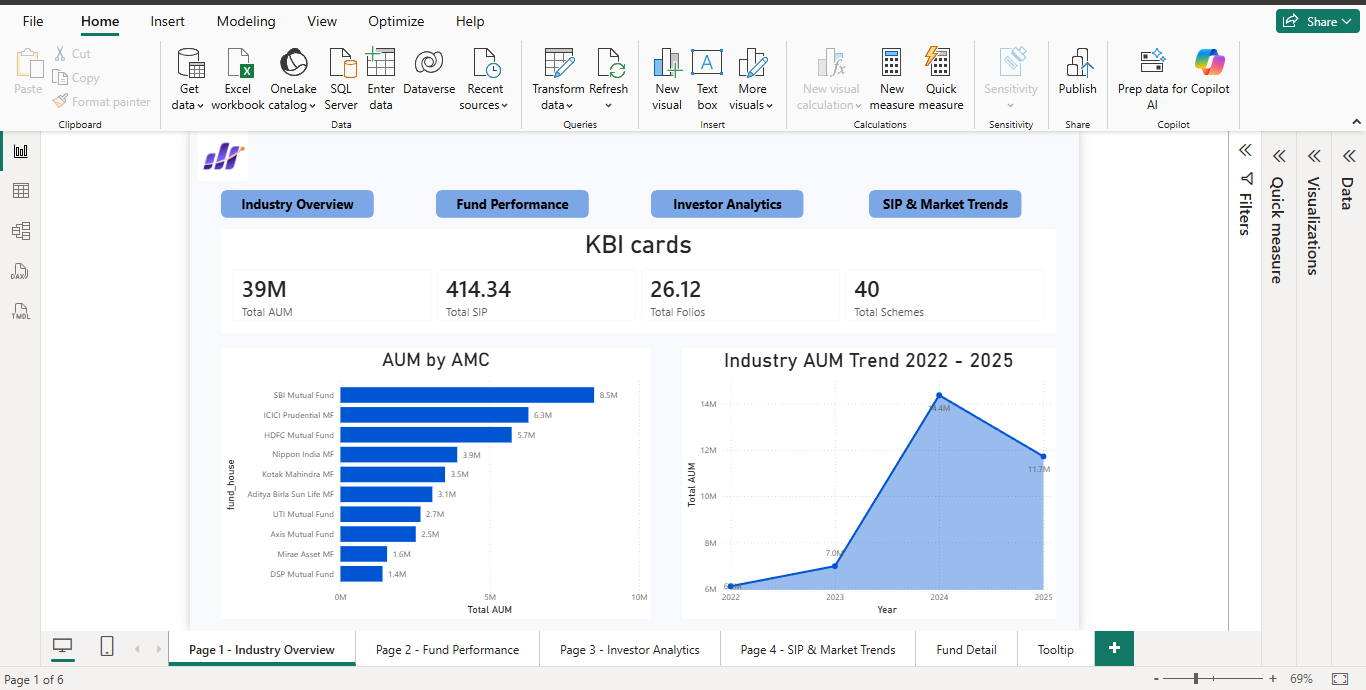

Layout of this report page (visuals, bound fields, positions):
{"tool":"powerbi","page":{"name":"Page 1 - Industry Overview","canvas":[1280,720],"ordinal":0},"visuals":[{"type":"cardVisual","title":"KBI cards","fields":{"Data":["Measures .Total AUM","Measures .Total SIP","Measures .Total Folios","Measures .Total Schemes"]},"box":[44.6,141.1,1202.4,149.8],"z":0},{"type":"lineChart","title":"Industry AUM Trend 2022 - 2025","fields":{"Y":["Measures .Total AUM"],"Category":["03_aum_by_fund_house.Year"]},"box":[708.5,312.5,538.6,390.2],"z":1000},{"type":"clusteredBarChart","title":"AUM by AMC","fields":{"Category":["03_aum_by_fund_house.fund_house"],"Y":["Measures .Total AUM"]},"box":[44.6,312.5,619.2,390.2],"z":2000},{"type":"image","box":[11.5,0,72,72],"z":3000},{"type":"actionButton","title":"Industry Overview","box":[44.6,85,220.3,40.3],"z":4000},{"type":"actionButton","box":[354.2,85,220.3,40.3],"z":5000},{"type":"actionButton","box":[663.8,85,220,40.3],"z":6000},{"type":"actionButton","box":[977.8,85,220,40.3],"z":7000}]}

Visuals, with their boxes on the page's 1280x720 design canvas (x1, y1, x2, y2). These are canvas units, not pixel positions in the 1366x690 screenshot, which may show the page scaled, cropped or inside an application window:
"KBI cards" cardVisual: [left=45, top=141, right=1247, bottom=291]
"Industry AUM Trend 2022 - 2025" lineChart: [left=708, top=312, right=1247, bottom=703]
"AUM by AMC" clusteredBarChart: [left=45, top=312, right=664, bottom=703]
image: [left=12, top=0, right=84, bottom=72]
"Industry Overview" actionButton: [left=45, top=85, right=265, bottom=125]
actionButton: [left=354, top=85, right=574, bottom=125]
actionButton: [left=664, top=85, right=884, bottom=125]
actionButton: [left=978, top=85, right=1198, bottom=125]
